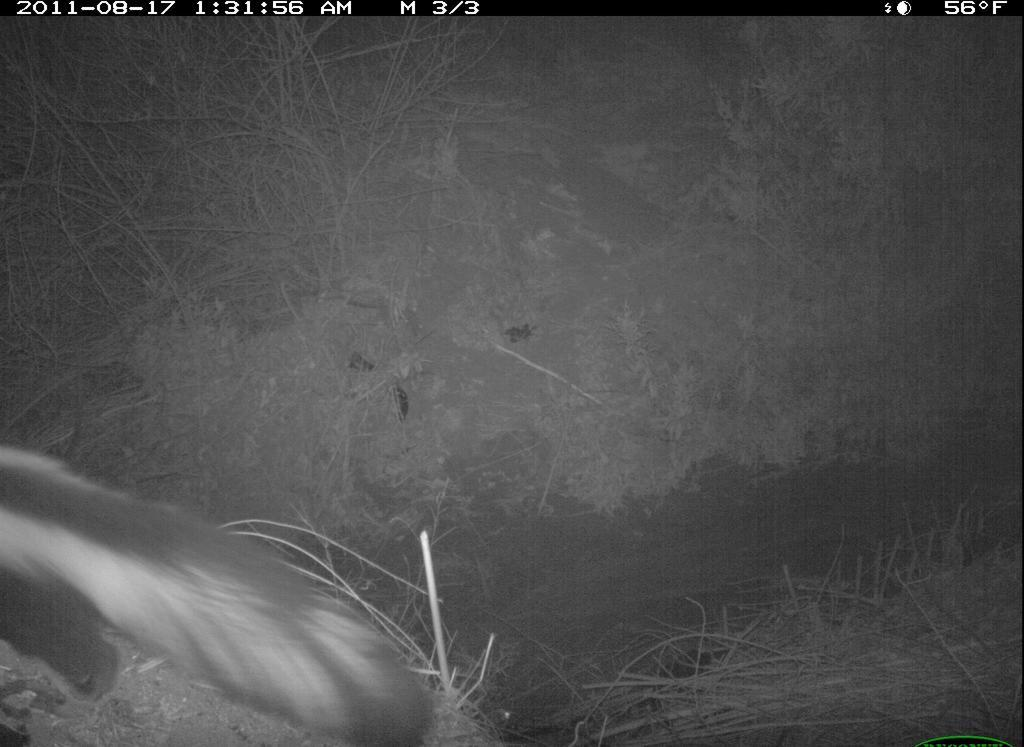skunk: (3, 423, 449, 747)
